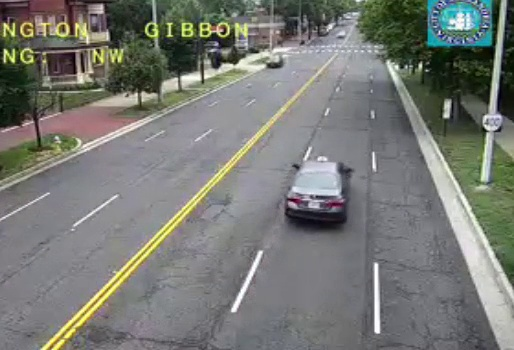car: (285, 161, 347, 223)
